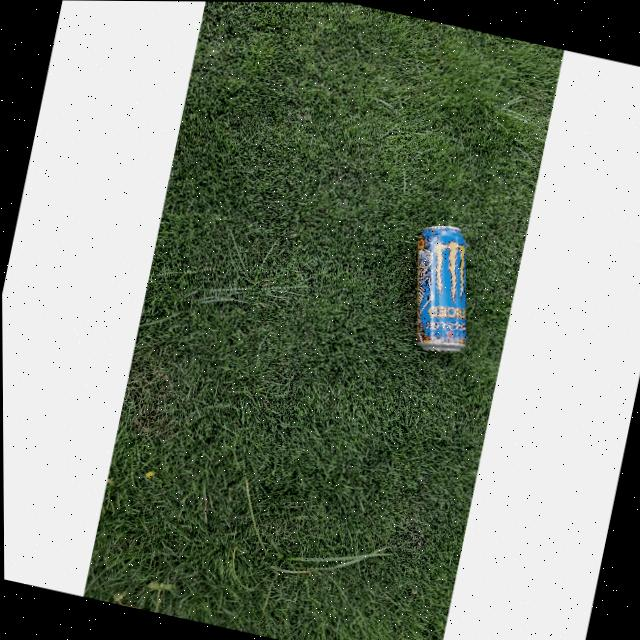Monster Mango Loco: (390, 219, 490, 355)
